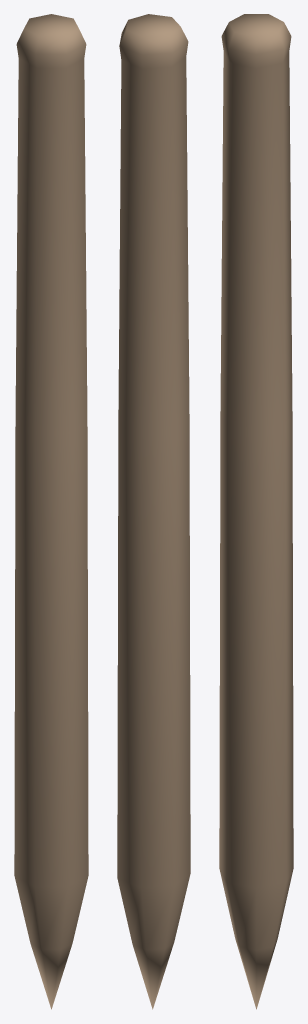
File: wp_stake.glb
3 views of the same model, side by side, from view 1: azimuth 90°, elevation 25°; view 2: azimuth 150°, elevation 25°; view 3: azimuth 270°, elevation 25° (orthographic).
Visible parts, largest first — view 1: wp_stake; view 2: wp_stake; view 3: wp_stake.
Part boxes in pixels (x1,y1,x2,y2): wp_stake: (14, 14, 88, 1009); wp_stake: (117, 14, 190, 1009); wp_stake: (219, 14, 293, 1009).
Bounding box in the file's own units: 0.0665 × 1 × 0.0682.
